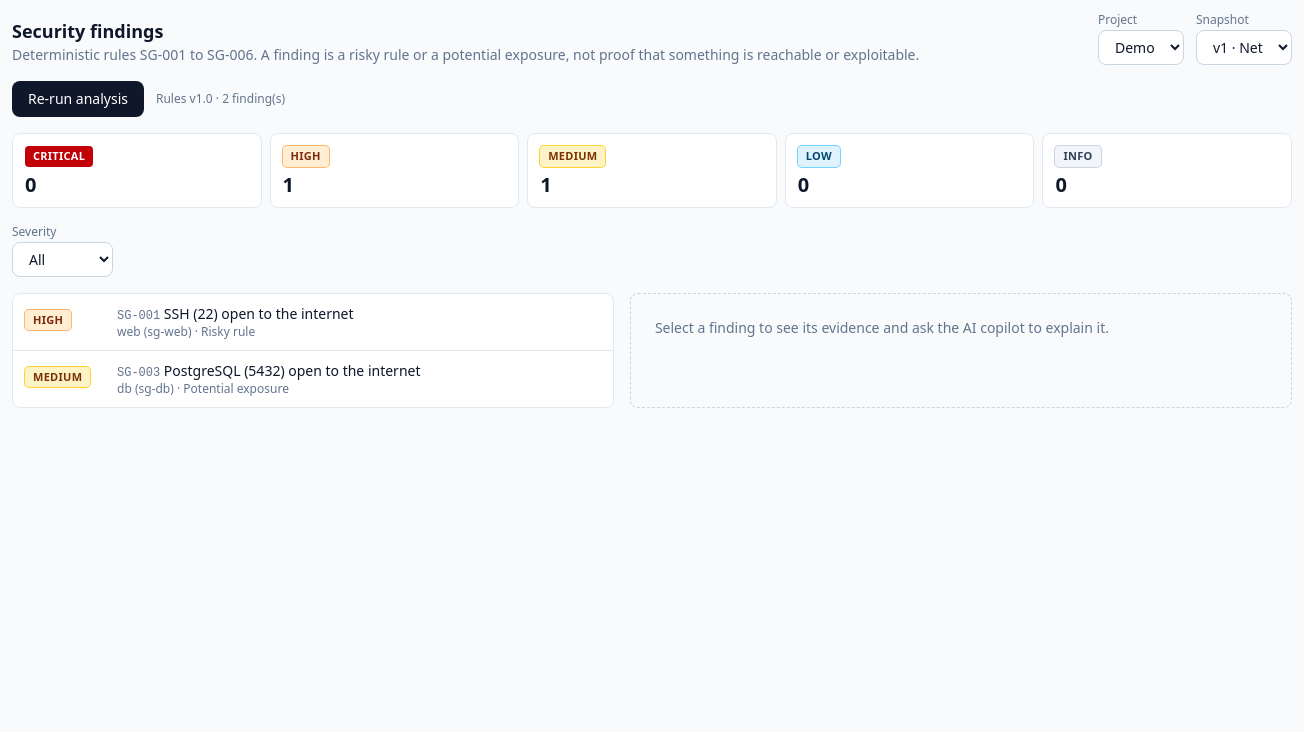
FindingsPage › shows evidence, remediation and limitations for the selected finding
This screenshot has width=1304, height=732.
Click the button "SG-001" at (313, 322), box [13,294,613,350]
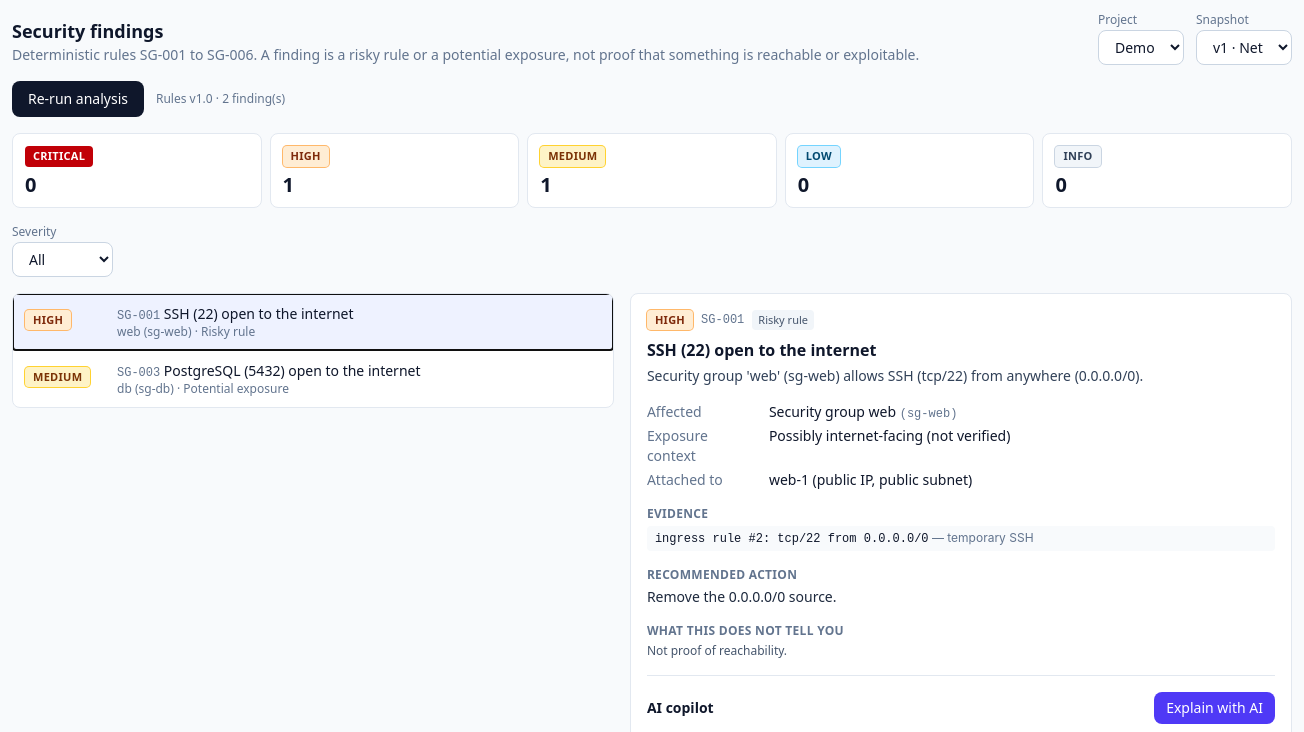
Expected: the list item "ingress rule #2: tcp/22 from 0.0.0.0/0" is shown, [655,532,929,546]
Expected: the text "Remove the 0.0.0.0/0 source." is shown, [647,587,836,606]
Expected: the text "Not proof of reachability." is shown, [647,642,787,659]
